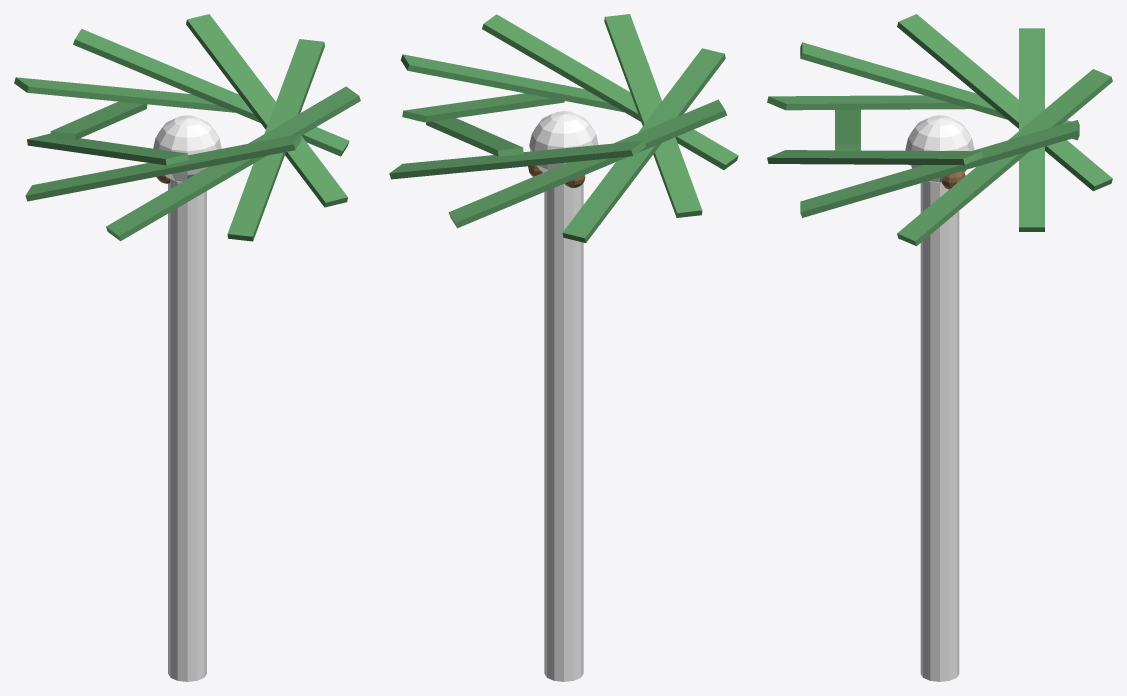
File: PalmTree.fbx
3 renders of one model, left to right at view 1: azimuth 30°, elevation 25°; view 2: azimuth 150°, elevation 25°; view 3: azimuth 270°, elevation 25°, orthographic.
Visible parts, largest first — view 1: Palm_Trunk, Palm_Frond0, Palm_Frond6, Palm_Frond7, Palm_Frond1, Palm_Frond5, Palm_Frond2, Palm_Crown, Palm_Frond4, Palm_Frond3; view 2: Palm_Trunk, Palm_Frond4, Palm_Frond5, Palm_Frond3, Palm_Frond6, Palm_Frond2, Palm_Frond7, Palm_Crown, Palm_Frond0, Palm_Frond1; view 3: Palm_Trunk, Palm_Frond1, Palm_Frond3, Palm_Frond0, Palm_Frond2, Palm_Frond4, Palm_Frond7, Palm_Frond5, Palm_Crown, Palm_Frond6.
Part boxes in pixels (x1,y1,x2,y2): Palm_Trunk: [168, 179, 206, 681]; Palm_Frond0: [186, 14, 347, 207]; Palm_Frond6: [106, 86, 360, 241]; Palm_Frond7: [227, 39, 324, 241]; Palm_Frond1: [73, 28, 349, 156]; Palm_Frond5: [25, 134, 301, 201]; Palm_Frond2: [14, 77, 235, 112]; Palm_Crown: [153, 115, 221, 182]; Palm_Frond4: [27, 134, 188, 165]; Palm_Frond3: [50, 101, 147, 140]; Palm_Trunk: [544, 183, 583, 681]; Palm_Frond4: [562, 48, 725, 242]; Palm_Frond5: [604, 14, 702, 217]; Palm_Frond3: [448, 99, 727, 228]; Palm_Frond6: [482, 14, 738, 169]; Palm_Frond2: [389, 140, 645, 179]; Palm_Frond7: [401, 54, 623, 112]; Palm_Crown: [529, 111, 598, 172]; Palm_Frond0: [402, 93, 564, 122]; Palm_Frond1: [426, 118, 523, 156]; Palm_Trunk: [920, 181, 959, 681]; Palm_Frond1: [897, 69, 1112, 246]; Palm_Frond3: [897, 14, 1112, 191]; Palm_Frond0: [800, 120, 1079, 217]; Palm_Frond2: [1019, 28, 1044, 231]; Palm_Frond4: [800, 42, 1079, 140]; Palm_Frond7: [767, 150, 982, 165]; Palm_Frond5: [767, 95, 969, 110]; Palm_Crown: [905, 115, 974, 182]; Palm_Frond6: [835, 109, 860, 150].
Bounding box in the file's own units: 3.2 × 6 × 3.2.
